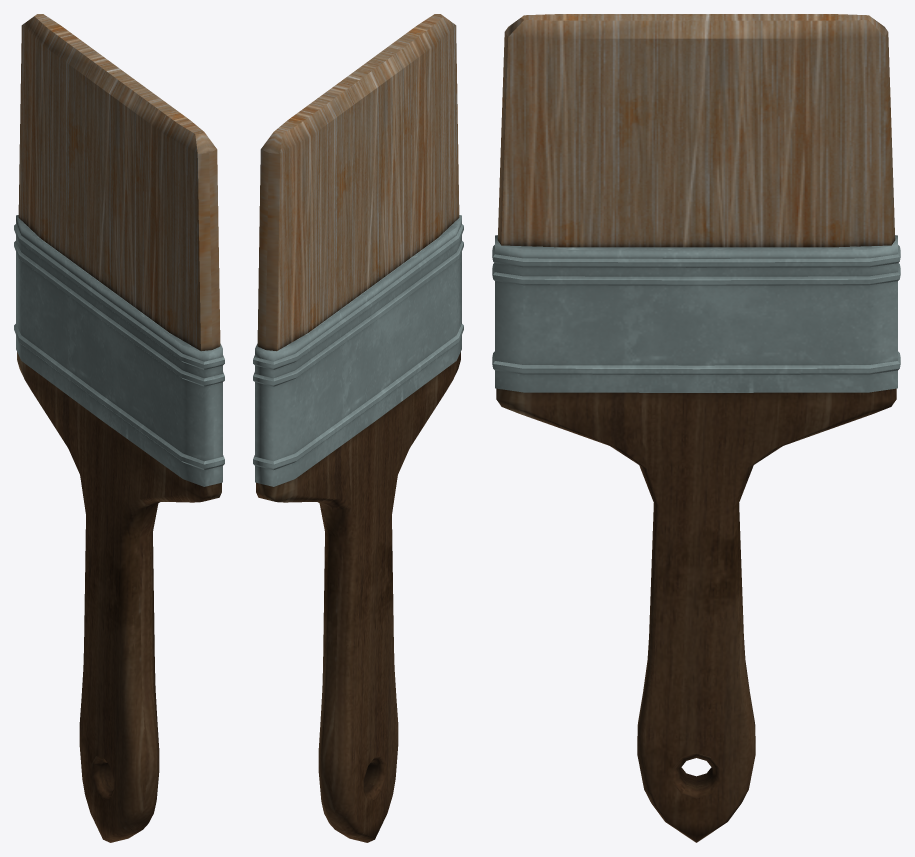
The model's file is largeBrush.fbx.
The picture shows the model from 3 angles, left to right: view 1: azimuth 30°, elevation 25°; view 2: azimuth 150°, elevation 25°; view 3: azimuth 270°, elevation 25°; orthographic projection. The views are drawn at different scales.
Visible parts, largest first — view 1: polySurface5; view 2: polySurface5; view 3: polySurface5.
Boxes of the visible parts, left/top/right/bottom form: polySurface5: left=14, top=14, right=224, bottom=842; polySurface5: left=253, top=14, right=463, bottom=842; polySurface5: left=492, top=14, right=900, bottom=842.
Bounding box in the file's own units: 2.12 × 37.9 × 17.1.
1 material, 1 textured.
